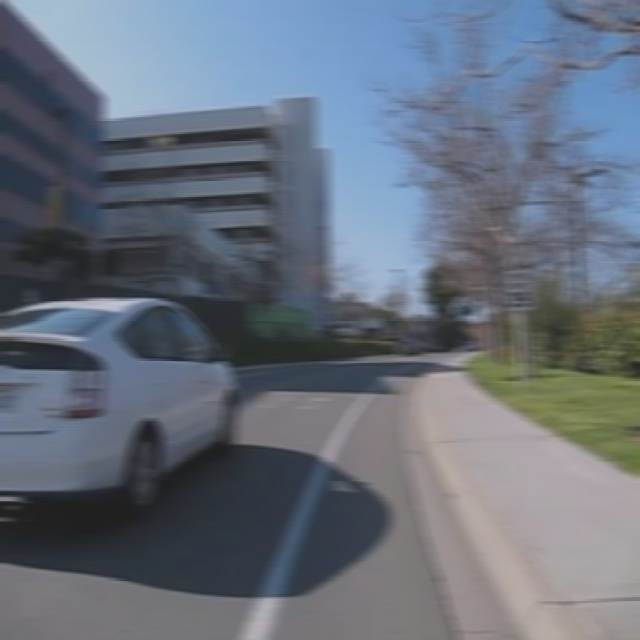speedLimit35: (503, 266, 533, 312)
